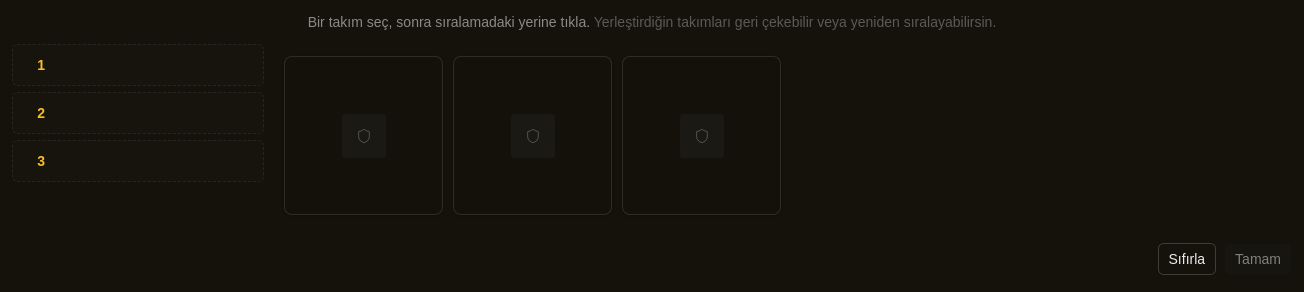
TeamRanker › click to place › puts a team in the rank clicked after selecting it
Click the button named "Alpha".
click(364, 136)  # box x1=284 y1=56 x2=443 y2=215
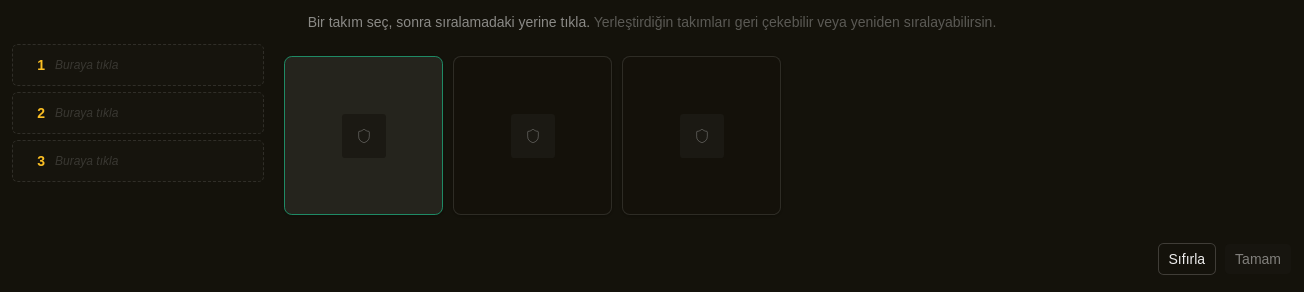
Click the button "2 Buraya tıkla".
click(138, 113)  # box x1=12 y1=92 x2=264 y2=134
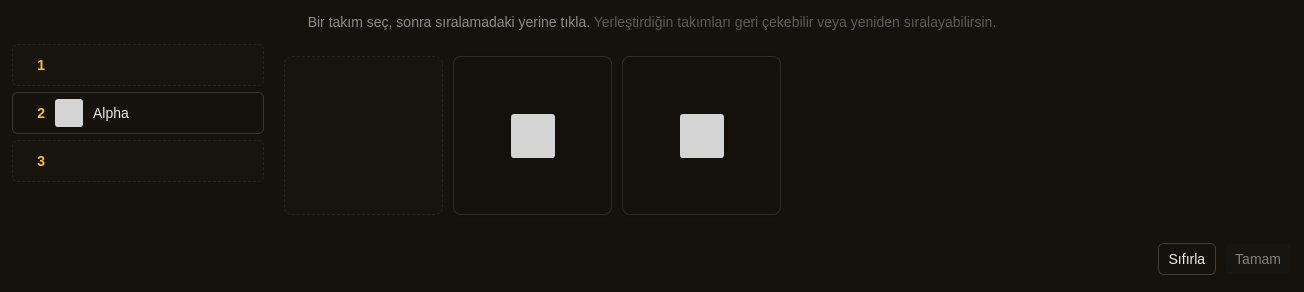
Result: the button "2 Alpha" is shown at x1=12 y1=92 x2=264 y2=134
